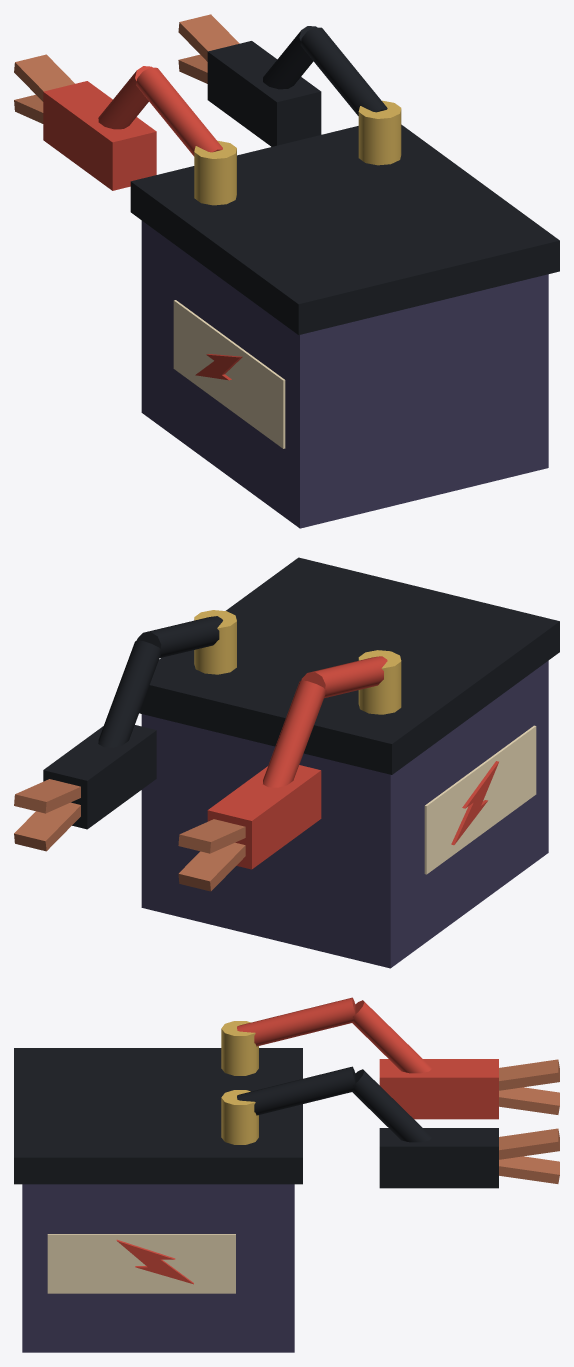
Rendered from battery_zapper.glb.
3 views of the same model, one above another, from view 1: azimuth 30°, elevation 25°; view 2: azimuth 150°, elevation 25°; view 3: azimuth 270°, elevation 25° (orthographic). The views are drawn at different scales.
Parts seen in each view (by area): view 1: Merged; view 2: Merged; view 3: Merged.
Part boxes in pixels (x1=…): Merged: x1=14, y1=14, x2=559, y2=528; Merged: x1=14, y1=557, x2=559, y2=968; Merged: x1=14, y1=997, x2=559, y2=1352.
Bounding box in the file's own units: 0.2046 × 0.2323 × 0.4301.
